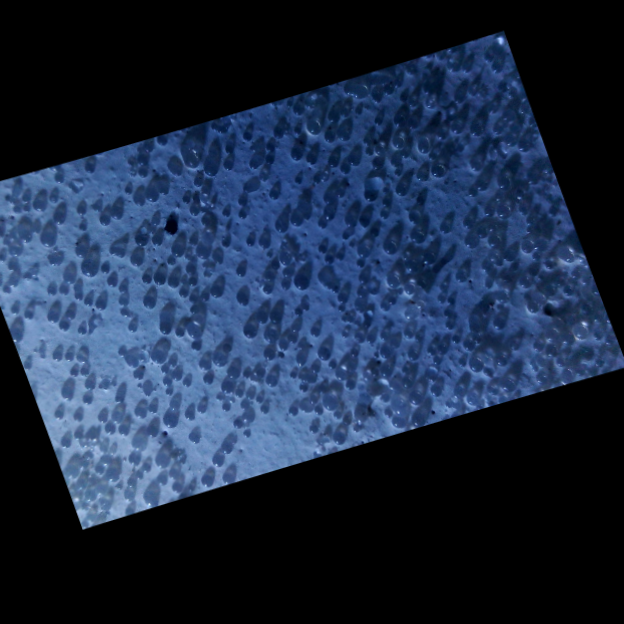GrassBeadSeg: (48, 61, 603, 367), (8, 92, 588, 338), (111, 92, 464, 474), (94, 172, 533, 474), (52, 62, 493, 361), (12, 145, 597, 364), (141, 135, 515, 472), (61, 84, 428, 399), (10, 107, 489, 315), (224, 172, 564, 454), (23, 145, 365, 424), (130, 211, 487, 478), (167, 106, 495, 396), (162, 124, 474, 427), (50, 132, 474, 350), (126, 140, 521, 368), (64, 125, 498, 320), (156, 158, 481, 417), (226, 122, 462, 478), (54, 127, 338, 413), (202, 61, 574, 279), (141, 168, 495, 393), (150, 123, 481, 363), (221, 240, 531, 485), (64, 187, 391, 417), (168, 117, 417, 410), (10, 251, 426, 419), (133, 141, 419, 379), (62, 270, 466, 438), (14, 187, 439, 344), (164, 151, 436, 395), (134, 252, 530, 419), (113, 252, 539, 403), (192, 218, 472, 442), (118, 142, 509, 302), (222, 160, 542, 352), (192, 177, 549, 349), (32, 126, 300, 355), (155, 270, 463, 468), (117, 208, 334, 485), (263, 155, 557, 357), (168, 333, 572, 480), (182, 187, 475, 387), (51, 116, 382, 289), (291, 105, 524, 350), (199, 260, 545, 414), (169, 114, 404, 336), (57, 211, 292, 428), (109, 329, 602, 431), (38, 232, 504, 338), (130, 254, 511, 380), (227, 159, 572, 296), (304, 216, 583, 384), (69, 310, 344, 480), (170, 148, 367, 380), (1, 286, 389, 403), (19, 186, 260, 369), (132, 209, 386, 374), (173, 156, 400, 337), (118, 133, 251, 435), (6, 262, 347, 379), (111, 271, 360, 431), (135, 155, 389, 311), (246, 236, 492, 394), (290, 147, 501, 330), (267, 179, 487, 354), (86, 163, 264, 379), (97, 241, 354, 389), (58, 191, 335, 324), (203, 159, 319, 475), (150, 219, 418, 355), (200, 272, 368, 486), (137, 169, 348, 337), (220, 210, 388, 411), (303, 152, 431, 415), (94, 299, 504, 381), (224, 145, 490, 271), (137, 169, 305, 367), (197, 198, 390, 370), (155, 293, 347, 459), (141, 274, 413, 388), (253, 147, 372, 403), (102, 215, 444, 303), (345, 205, 556, 345), (75, 128, 349, 235), (200, 216, 453, 330), (262, 171, 427, 343), (84, 263, 223, 466), (198, 156, 393, 300), (193, 178, 364, 342), (391, 178, 503, 427), (410, 251, 573, 422), (184, 234, 469, 331), (91, 106, 349, 212), (175, 244, 318, 433), (330, 130, 442, 370), (276, 253, 492, 376), (267, 155, 533, 253), (80, 215, 210, 414), (47, 286, 249, 411), (23, 309, 167, 484), (261, 141, 429, 290), (293, 176, 481, 303), (490, 62, 563, 379), (281, 252, 498, 356), (60, 291, 202, 449), (241, 216, 532, 293), (329, 255, 478, 405), (241, 196, 341, 419), (79, 206, 506, 258), (166, 237, 307, 392), (57, 207, 224, 331), (240, 164, 444, 265), (220, 331, 388, 453), (311, 218, 499, 327), (239, 131, 389, 265), (78, 223, 301, 313), (189, 206, 501, 269), (187, 163, 348, 285), (67, 288, 366, 353), (62, 219, 327, 291), (236, 210, 444, 299), (291, 126, 493, 216), (211, 251, 447, 326), (119, 307, 301, 402), (272, 309, 463, 398), (173, 164, 487, 217), (127, 324, 507, 367), (47, 311, 536, 344), (188, 206, 400, 282), (98, 163, 349, 226), (288, 148, 509, 218), (82, 367, 486, 405), (190, 277, 295, 423), (295, 251, 434, 358), (242, 325, 392, 424), (267, 121, 338, 330), (145, 187, 288, 290), (313, 121, 400, 288), (351, 154, 413, 383), (491, 126, 546, 383), (73, 269, 579, 296), (106, 154, 147, 481), (63, 353, 401, 392), (74, 261, 410, 300), (208, 216, 369, 296), (166, 276, 330, 354), (331, 110, 476, 197), (139, 194, 181, 493), (105, 238, 359, 287), (127, 323, 262, 414), (332, 282, 407, 444), (396, 136, 441, 405), (94, 357, 176, 497), (95, 203, 135, 488), (246, 128, 283, 436), (115, 398, 235, 491), (0, 197, 85, 328), (324, 255, 435, 355), (74, 246, 552, 269), (244, 285, 339, 400), (162, 272, 368, 323), (99, 231, 349, 273), (365, 189, 429, 351), (423, 97, 524, 199), (406, 97, 503, 202), (418, 105, 527, 197), (49, 254, 248, 304), (254, 310, 393, 380), (212, 237, 276, 388), (399, 54, 491, 159), (1, 276, 530, 294), (406, 118, 446, 355), (361, 83, 506, 146), (179, 186, 268, 283), (415, 229, 475, 371), (190, 153, 271, 258), (53, 409, 163, 485), (281, 110, 330, 277), (283, 279, 538, 311), (220, 280, 331, 352), (287, 218, 327, 416), (177, 258, 364, 297), (240, 209, 485, 238), (440, 130, 523, 215), (288, 251, 343, 379), (251, 85, 365, 146), (31, 283, 126, 356), (413, 274, 511, 343), (82, 374, 292, 406), (181, 287, 238, 404), (400, 359, 530, 408), (403, 251, 495, 320), (240, 322, 360, 374), (167, 380, 354, 413), (44, 231, 157, 285), (442, 309, 537, 372), (104, 396, 261, 434), (262, 212, 302, 360), (142, 205, 197, 309), (327, 362, 572, 385), (486, 279, 572, 344), (362, 191, 415, 295), (13, 173, 63, 283), (503, 249, 543, 385), (409, 230, 441, 396), (403, 307, 559, 341), (362, 137, 404, 258), (158, 238, 268, 284), (263, 271, 386, 311), (375, 338, 446, 406), (188, 262, 278, 315), (131, 171, 267, 206), (25, 205, 122, 252), (220, 214, 355, 247), (299, 302, 591, 317), (410, 82, 433, 272), (220, 381, 477, 398), (85, 378, 243, 404), (119, 216, 159, 317), (357, 66, 413, 138), (317, 348, 482, 371), (311, 174, 423, 205), (429, 222, 449, 395), (108, 449, 190, 491), (297, 400, 424, 427), (147, 188, 390, 202), (424, 83, 510, 122), (416, 300, 497, 341), (307, 153, 424, 181), (371, 84, 409, 168), (366, 253, 409, 327), (118, 459, 184, 507), (188, 405, 267, 444), (52, 207, 230, 224), (356, 210, 420, 257), (170, 244, 201, 340), (177, 310, 278, 338), (454, 336, 541, 367), (81, 357, 150, 396), (83, 444, 131, 500), (354, 295, 396, 359), (293, 322, 326, 401), (58, 283, 271, 295), (0, 225, 39, 288), (118, 146, 142, 247), (341, 279, 426, 307), (446, 62, 495, 109), (394, 79, 515, 98), (67, 466, 134, 500), (304, 153, 326, 254), (171, 273, 308, 289), (252, 341, 305, 379), (209, 342, 247, 395), (0, 226, 34, 285), (166, 236, 196, 301), (151, 234, 170, 334), (98, 423, 158, 454), (149, 263, 195, 302), (362, 184, 407, 223), (382, 183, 405, 254), (543, 313, 611, 337), (337, 288, 402, 313), (342, 372, 372, 426), (341, 154, 360, 239), (185, 145, 257, 167), (83, 163, 131, 195), (130, 423, 152, 492), (432, 296, 454, 365), (247, 158, 315, 179), (79, 234, 146, 255), (183, 253, 278, 267), (579, 336, 614, 372), (445, 308, 480, 344), (410, 86, 471, 106), (22, 353, 87, 371), (335, 285, 364, 324), (146, 225, 197, 246), (25, 361, 88, 377), (475, 295, 500, 335), (127, 159, 162, 187), (470, 54, 492, 96), (84, 450, 139, 466), (88, 442, 124, 466), (445, 297, 503, 311), (65, 460, 106, 479), (155, 135, 168, 194), (99, 483, 127, 510), (349, 350, 377, 377), (521, 172, 538, 214), (540, 359, 582, 376), (73, 326, 86, 378), (353, 91, 381, 115), (370, 79, 400, 101), (72, 430, 92, 460), (436, 336, 458, 359), (485, 222, 498, 260), (318, 405, 344, 422), (142, 134, 167, 151), (503, 136, 529, 152), (21, 193, 57, 204), (117, 283, 128, 318), (80, 480, 89, 519), (276, 333, 295, 351), (357, 302, 369, 329), (309, 395, 323, 416), (77, 412, 106, 422), (72, 411, 81, 439), (107, 246, 125, 258), (462, 235, 477, 249), (147, 391, 156, 413), (289, 323, 300, 341), (159, 357, 170, 374), (240, 371, 256, 382), (21, 195, 30, 213), (499, 381, 514, 391), (1, 232, 16, 242), (234, 265, 245, 277), (308, 327, 320, 337), (85, 513, 95, 523), (75, 480, 84, 491), (162, 377, 171, 387), (180, 194, 189, 204), (214, 394, 222, 402), (501, 275, 504, 295), (501, 296, 505, 302)
